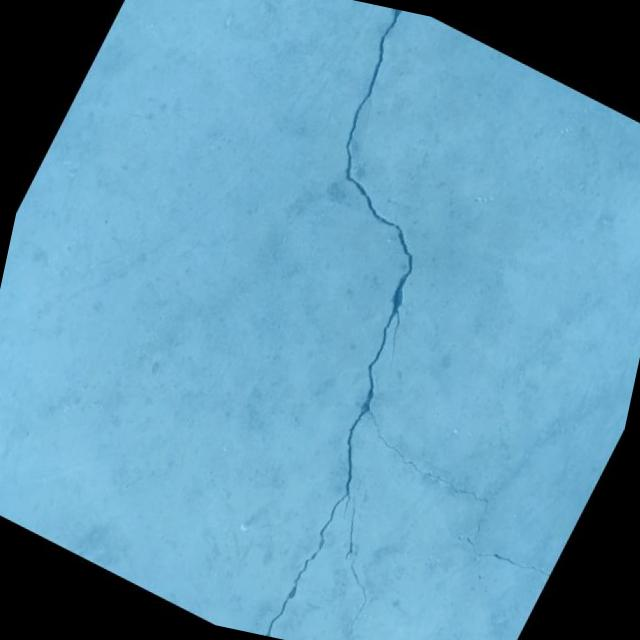crack: (97, 0, 640, 640), (445, 526, 556, 596)
